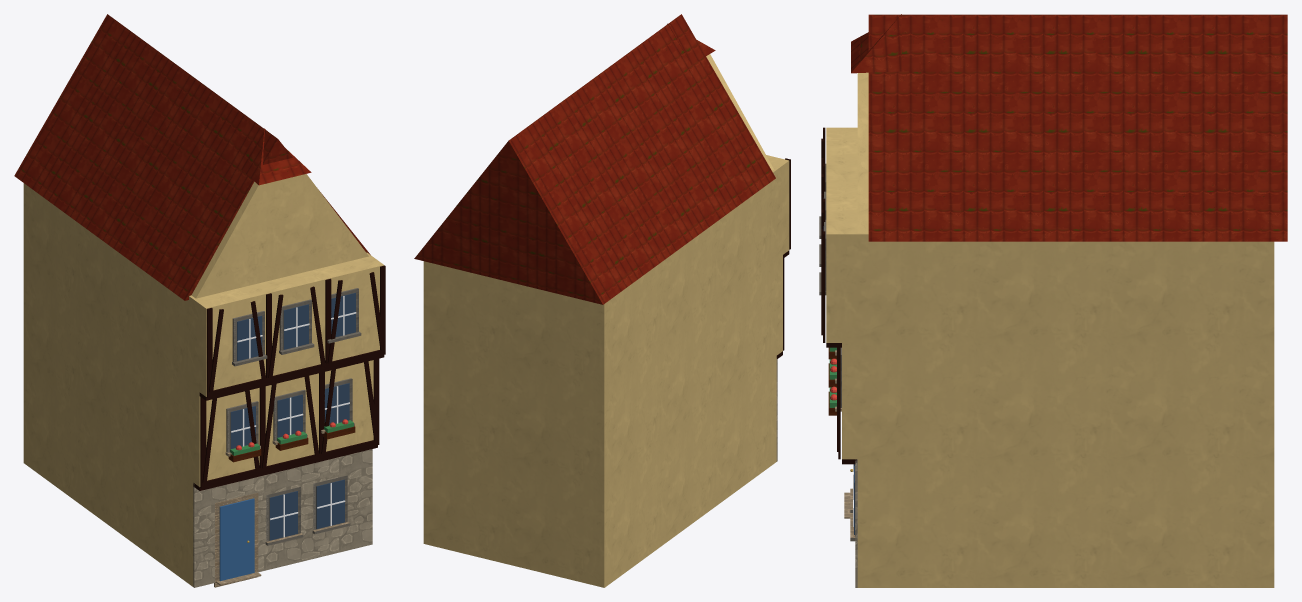
File: fachwerk_w6_2.gltf
The picture shows the model from 3 angles, left to right: view 1: azimuth 30°, elevation 25°; view 2: azimuth 150°, elevation 25°; view 3: azimuth 270°, elevation 25°; orthographic projection. The views are drawn at different scales.
Parts seen in each view (by area): view 1: fachwerk_w6_2; view 2: fachwerk_w6_2; view 3: fachwerk_w6_2.
Boxes of the visible parts, x1,y1,x2,y2 form: fachwerk_w6_2: (14,14,385,587); fachwerk_w6_2: (414,14,790,587); fachwerk_w6_2: (819,14,1287,587).
Size of what is drawn, in the model's own units: 5.96 by 13.1 by 10.56.
Materials: 8 (5 with a texture image).
